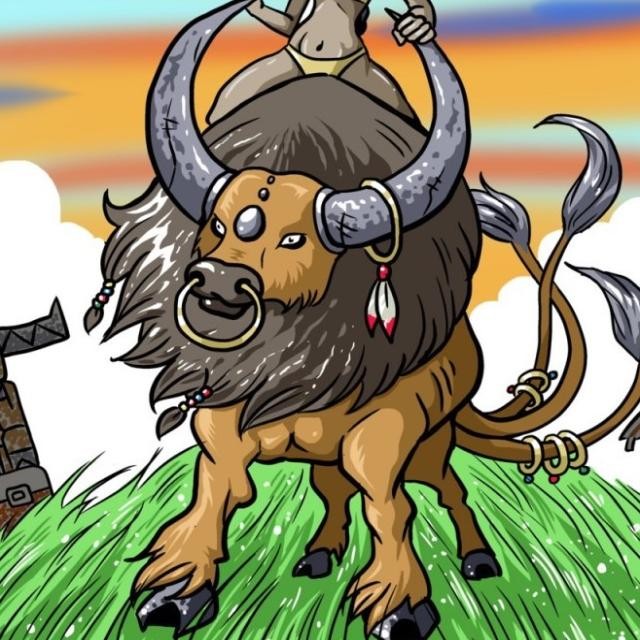Tauros: (150, 91, 490, 538)
